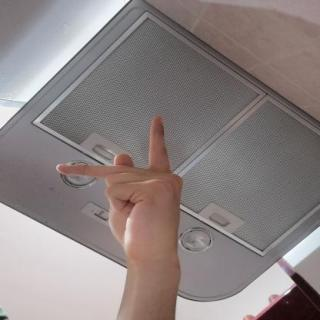DHAA: (48, 109, 194, 268)
